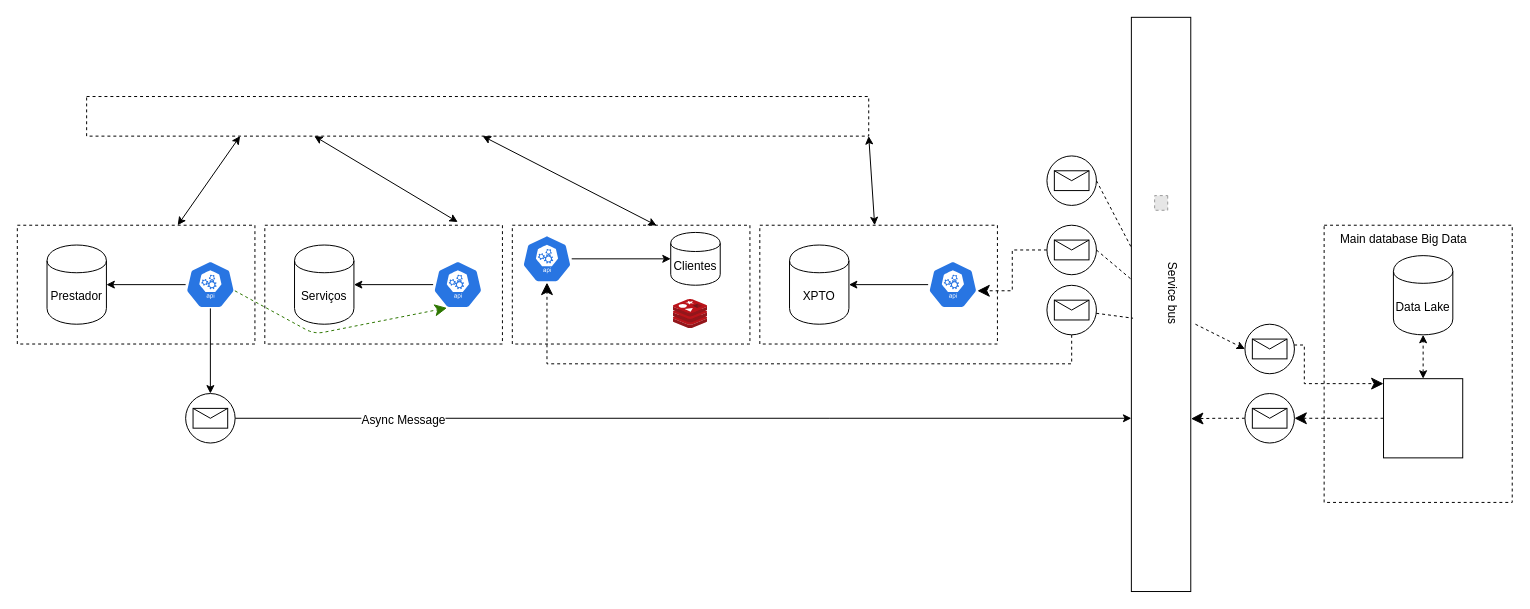
The diagram is 1530 pixels wide and 609 high, and some of its shapes have lost their labels. Grey dashed boxes stand in for pictures. Here are the shapes that lost their labels. From the top down, the box of each, then its label:
(86, 96, 869, 136): Api Gateway
(1383, 378, 1463, 458): ingestion Script
